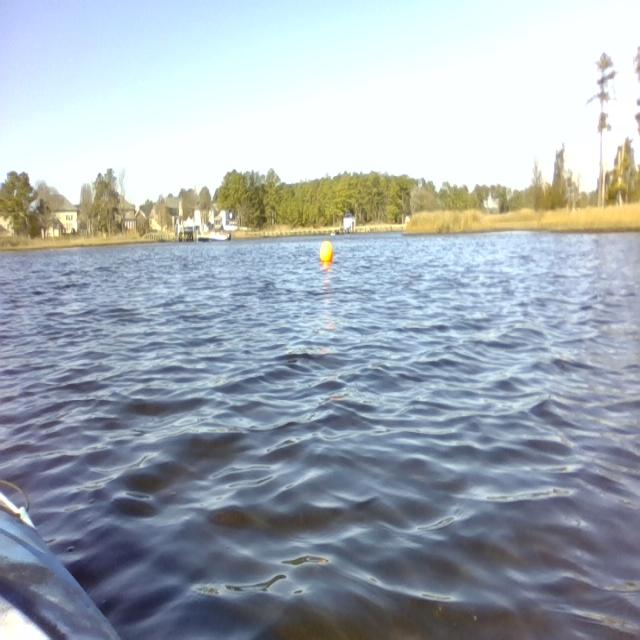Buoy: (314, 234, 336, 270)
